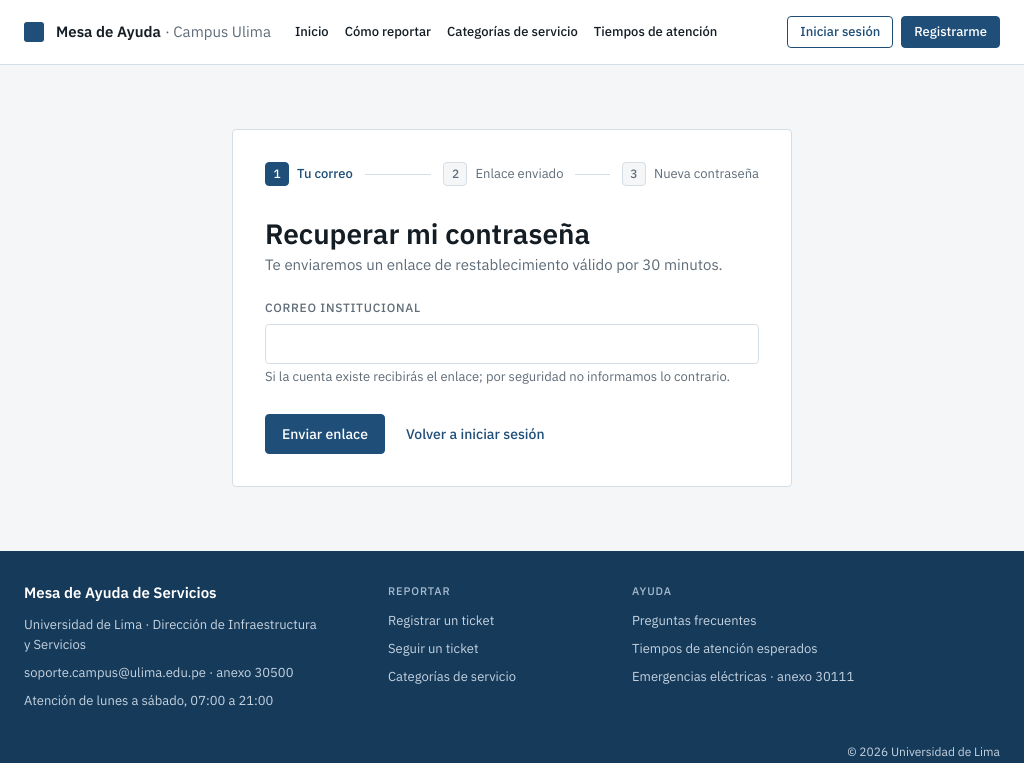
Scenario: ForgotPasswordPage › si el envío falla de forma inesperada lo notifica y conserva el correo
This screenshot has width=1024, height=763.
Type "camila.quispe@aloe.ulima.edu.pe" into the field labelled "Correo institucional" at (512,344), box [265, 324, 759, 364]
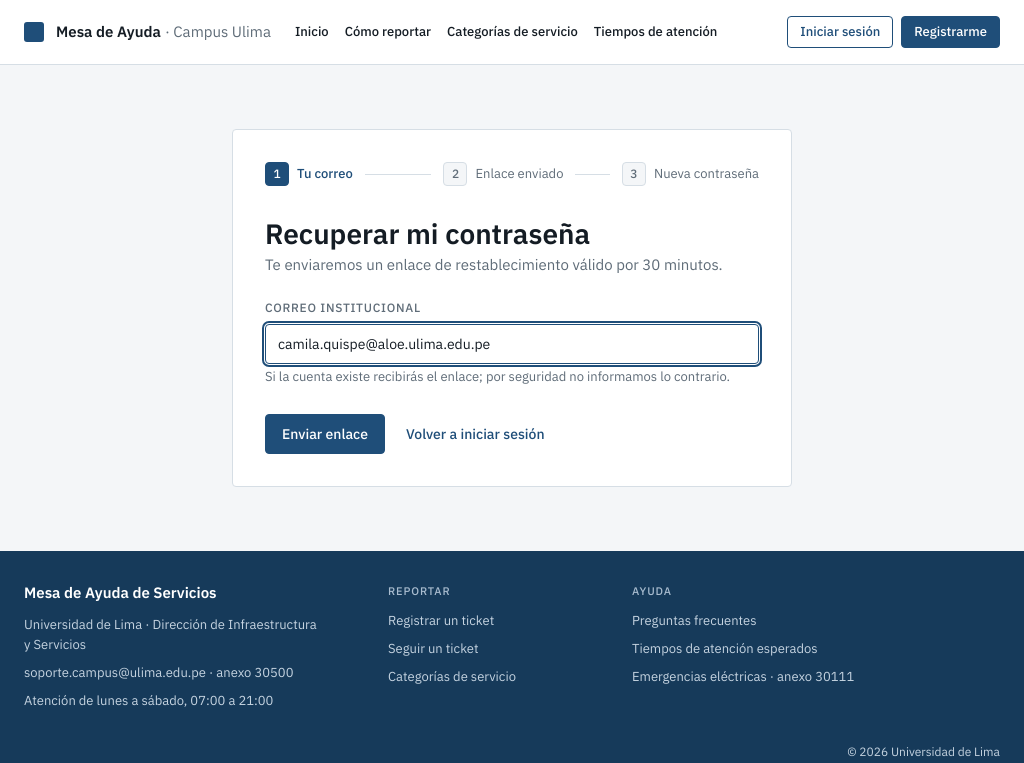
Click the button "Enviar enlace" at (325,434), box [265, 414, 385, 454]
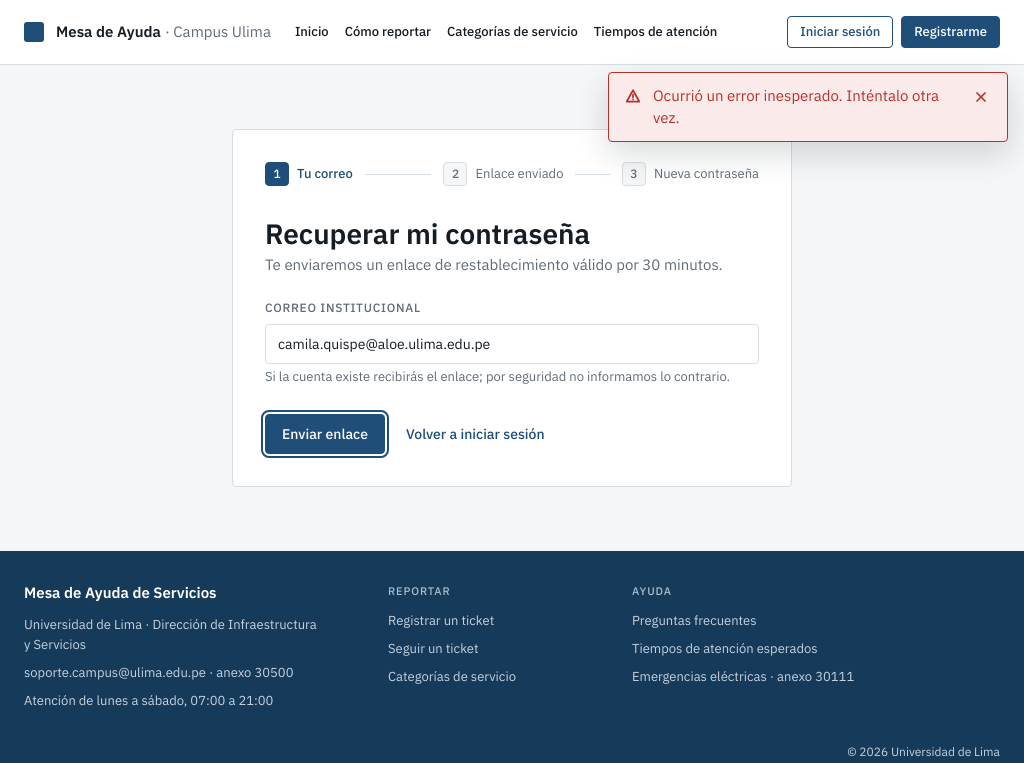
Expected: the heading "Recuperar mi contraseña" is shown, [265, 215, 590, 252]
Expected: the text "Ocurrió un error inesperado. Inténtalo otra vez." is shown, [653, 85, 955, 129]
